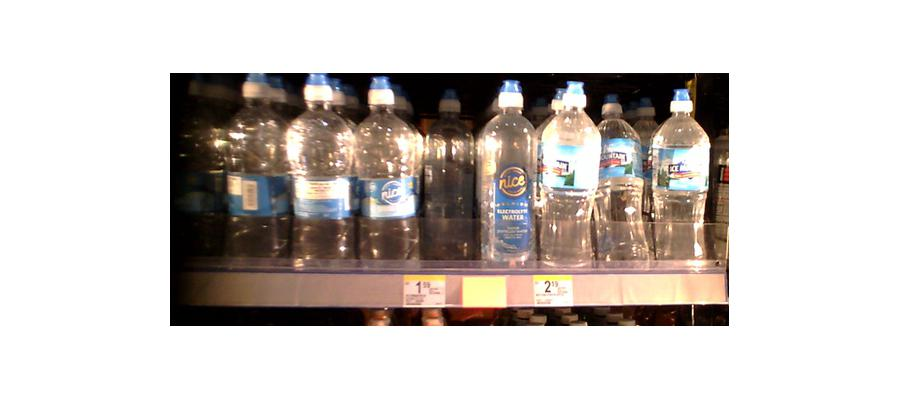bottle: (221, 70, 292, 264), (289, 74, 354, 266), (535, 86, 599, 272), (354, 79, 416, 264), (650, 88, 709, 266), (480, 83, 535, 267), (419, 94, 478, 263), (597, 93, 648, 265)
